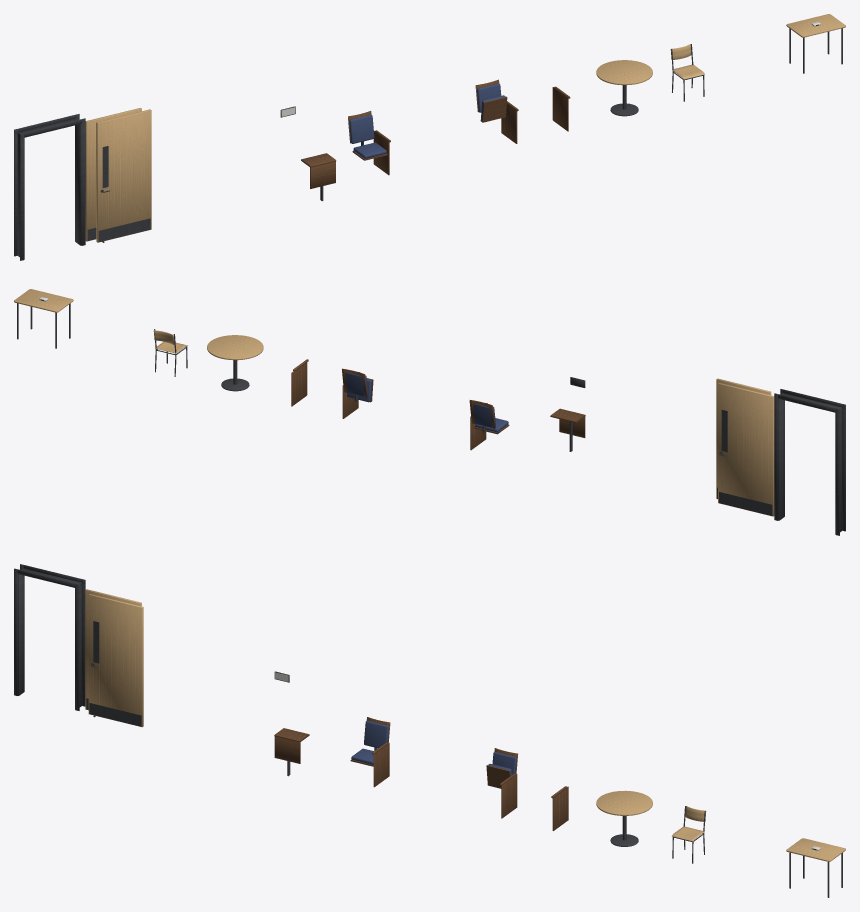
The model's file is furniture_study.glb.
The picture shows the model from 3 angles, top to bottom: view 1: azimuth 30°, elevation 25°; view 2: azimuth 150°, elevation 25°; view 3: azimuth 330°, elevation 25°; orthographic projection.
Parts seen in each view (by area): view 1: door_leaf_open, door_frame, door_leaf_closed, lecture_seat, lecture_seat_up, round_table, study_table2, lecture_desk, study_chair, lecture_standard; view 2: door_leaf_closed, door_frame, round_table, lecture_seat, lecture_seat_up, study_table2, lecture_desk, study_chair, lecture_standard, door_leaf_open; view 3: door_leaf_open, door_frame, lecture_seat, round_table, lecture_seat_up, study_table2, lecture_desk, study_chair, door_leaf_closed, lecture_standard.
Boxes of the visible parts, x1,y1,x2,y2 form: door_leaf_open: (96,109,151,242); door_frame: (14,114,85,260); door_leaf_closed: (85,108,141,241); lecture_seat: (348,111,390,175); lecture_seat_up: (475,79,518,143); round_table: (596,60,652,116); study_table2: (786,14,845,73); lecture_desk: (301,153,336,201); study_chair: (670,44,704,101); lecture_standard: (552,86,570,131); door_leaf_closed: (718,383,774,516); door_frame: (774,389,845,535); round_table: (207,335,263,391); lecture_seat: (469,400,509,450); lecture_seat_up: (342,368,373,418); study_table2: (14,289,73,348); lecture_desk: (550,408,585,451); study_chair: (153,329,187,376); lecture_standard: (291,359,308,406); door_leaf_open: (716,378,771,499); door_leaf_open: (88,594,143,727); door_frame: (14,564,85,710); lecture_seat: (350,717,390,787); round_table: (596,790,652,846); lecture_seat_up: (486,748,517,818); study_table2: (786,838,845,897); lecture_desk: (274,728,309,776); study_chair: (672,806,706,863); door_leaf_closed: (85,589,141,710); lecture_standard: (551,786,568,830).
Size of what is drawn, in the model's own units: 16.72 by 2.48 by 1.14.
1 material, 1 textured.
